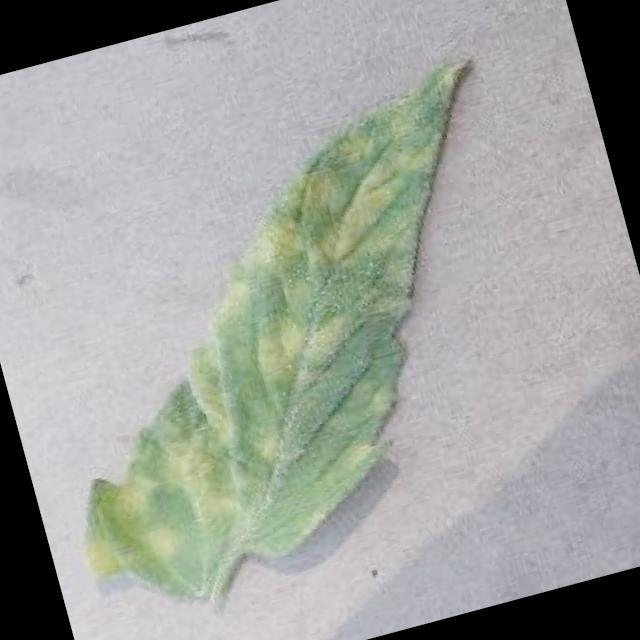Tomato mold leaf: (0, 49, 588, 628)
